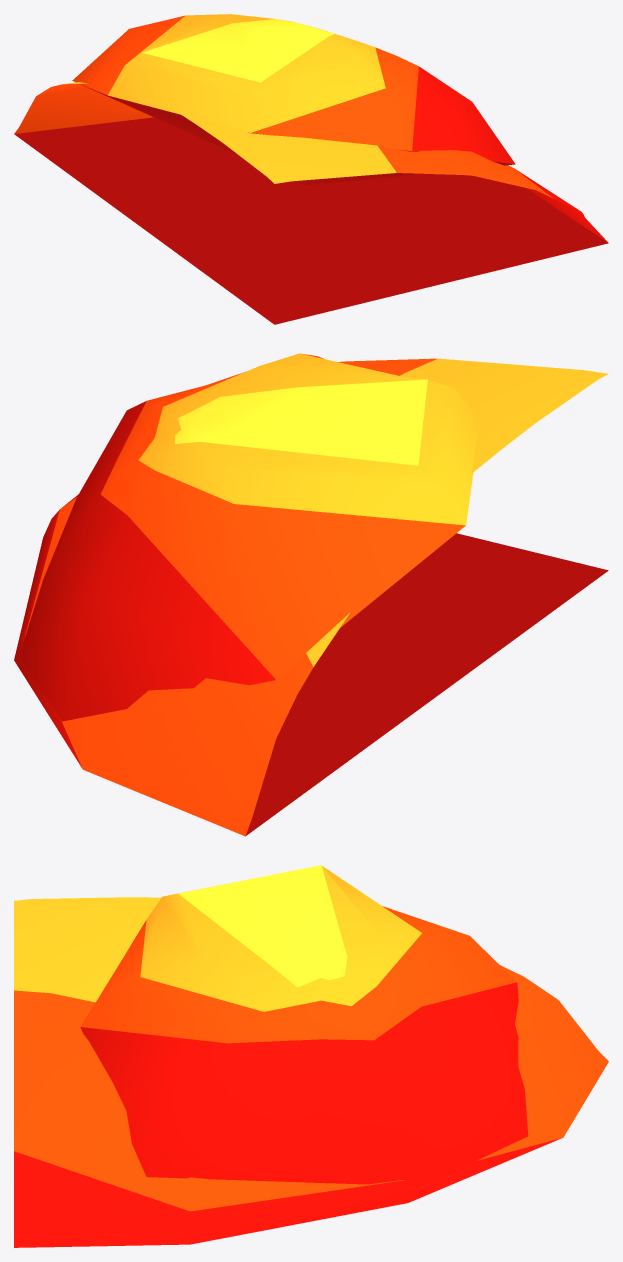
Rendered from shot_zflame_196.glb.
The picture shows the model from 3 angles, top to bottom: view 1: azimuth 30°, elevation 25°; view 2: azimuth 150°, elevation 25°; view 3: azimuth 270°, elevation 25°; orthographic projection. The views are drawn at different scales.
Visible parts, largest first — view 1: zflame_5_bed_b196, zflame_5_billow5_b196; view 2: zflame_5_billow5_b196, zflame_5_bed_b196; view 3: zflame_5_billow5_b196, zflame_5_bed_b196.
Part boxes in pixels (box(x1,y1,x2,y2)): zflame_5_bed_b196: box(14, 82, 608, 324); zflame_5_billow5_b196: box(72, 14, 515, 185); zflame_5_billow5_b196: box(18, 353, 480, 721); zflame_5_bed_b196: box(14, 358, 608, 836); zflame_5_billow5_b196: box(80, 865, 528, 1186); zflame_5_bed_b196: box(14, 897, 608, 1247).
Bounding box in the file's own units: 5.5 × 2.59 × 6.77.
